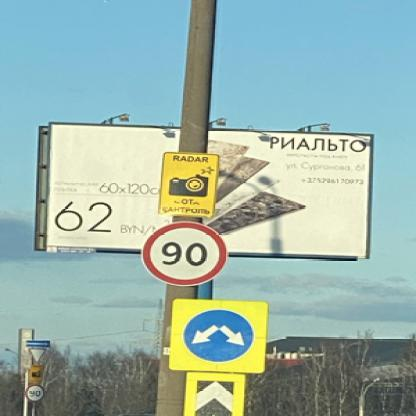speedlimit: (138, 220, 224, 285), (25, 384, 43, 400)
